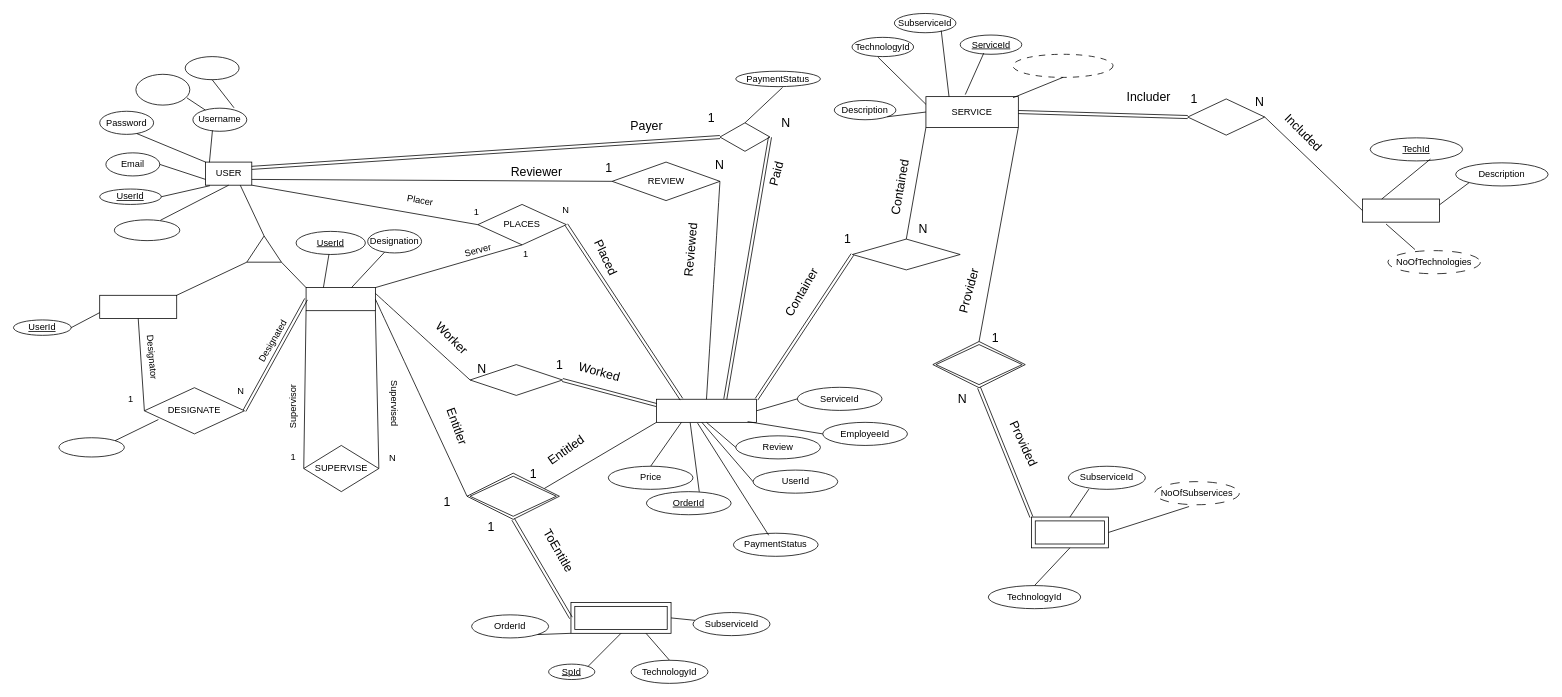
Some shapes in this 1562 by 697 pixel diagram are drawn without their labels. Each missing label, with the box of its shape:
ADMIN: (99, 295, 177, 318)
CONTAINS: (852, 238, 960, 270)
EMPLOYEE: (305, 287, 375, 311)
ENTITLE: (466, 472, 559, 519)
FirstName: (135, 74, 190, 105)
INCLUDES: (1187, 98, 1265, 135)
ISA: (246, 235, 281, 262)
LastName: (184, 56, 239, 80)
NoOfServices: (1012, 54, 1113, 77)
ORDER_DETAIL: (656, 398, 757, 422)
PAY: (719, 122, 770, 151)
PROVIDE: (932, 341, 1025, 388)
Rank: (58, 437, 124, 457)
Role: (114, 219, 180, 241)
SPECIAL_SERVICE: (570, 602, 671, 633)
SUB_SERVICE: (1031, 516, 1108, 548)
TECHNOLOGY: (1362, 198, 1440, 222)
WORKS_ON: (469, 364, 562, 395)
